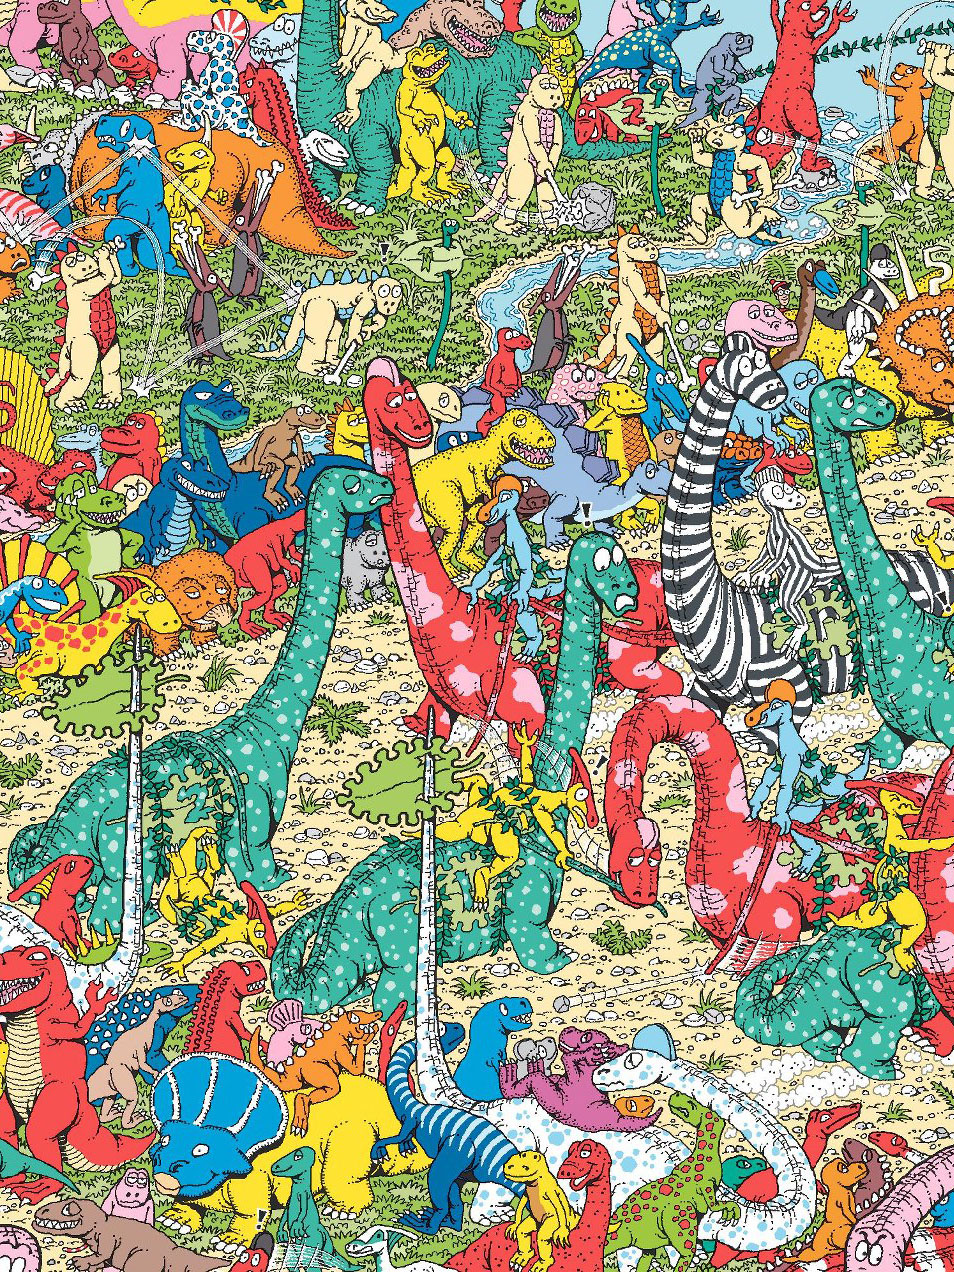waldo: (771, 277, 792, 306)
